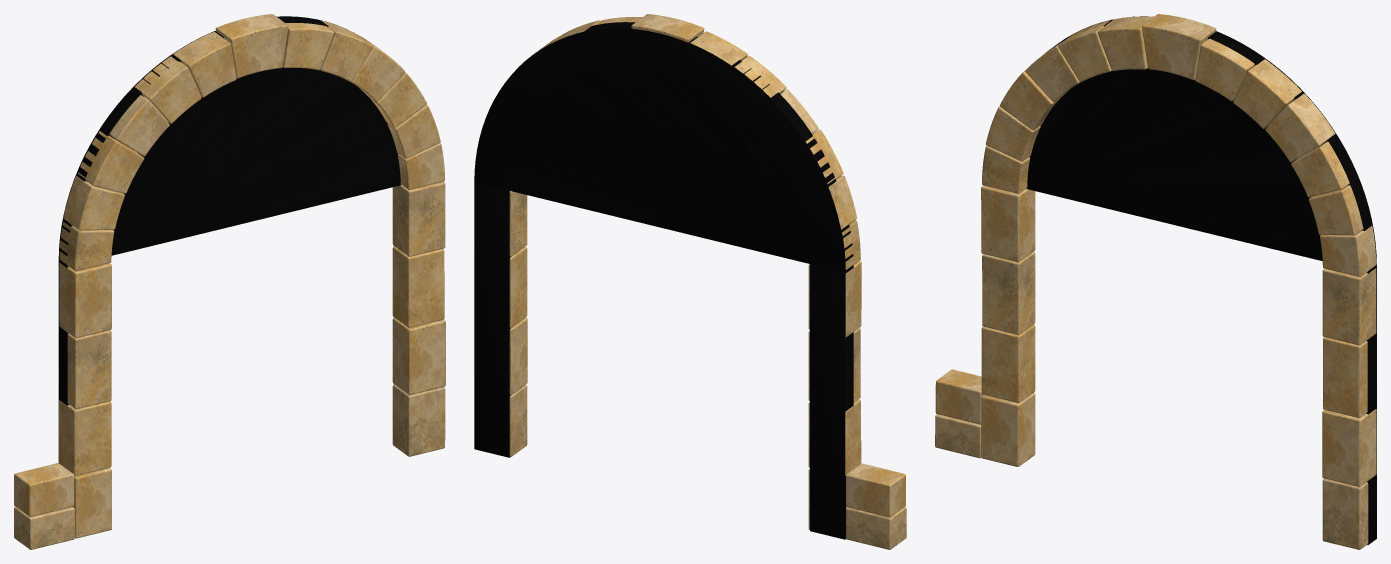
File: CM_SW14_DressedEntrance.fbx
The picture shows the model from 3 angles, left to right: view 1: azimuth 30°, elevation 25°; view 2: azimuth 150°, elevation 25°; view 3: azimuth 330°, elevation 25°; orthographic projection. The views are drawn at different scales.
Visible parts, largest first — view 1: CM_SW14_DressedEntrance; view 2: CM_SW14_DressedEntrance; view 3: CM_SW14_DressedEntrance.
Boxes of the visible parts, <box> form: CM_SW14_DressedEntrance: <box>14,14,445,549</box>; CM_SW14_DressedEntrance: <box>474,14,906,549</box>; CM_SW14_DressedEntrance: <box>935,14,1376,549</box>.
Size of the model in its own units: 2.81 by 2.99 by 0.1984.
